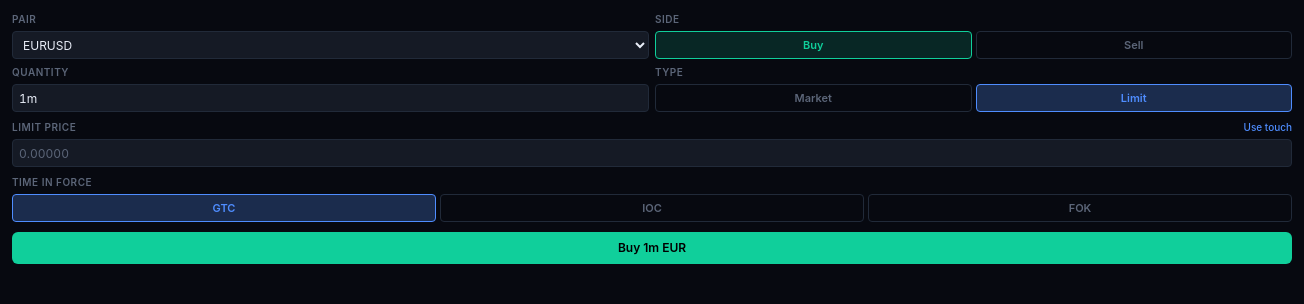
OrderTicket › refuses a limit order with no price and says why
Click the button with test id "order-submit" at (652, 248), box top-left (12, 232), bottom-right (1292, 264)
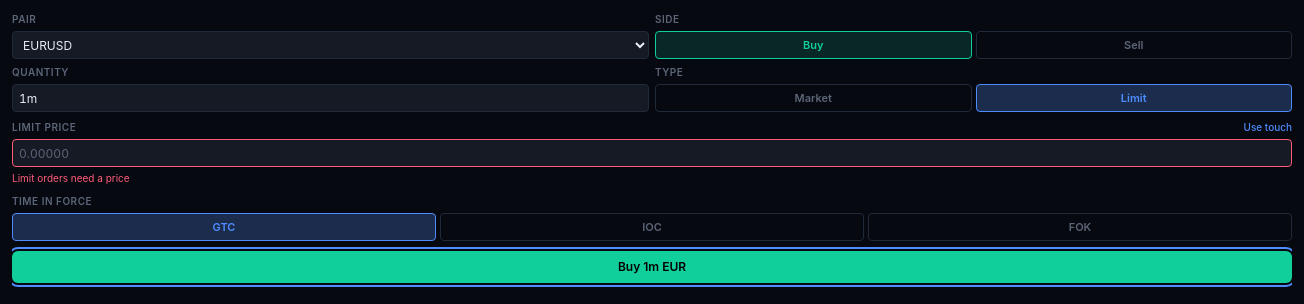
Expected: the text "Limit orders need a price" is shown, top-left (12, 172), bottom-right (130, 184)
